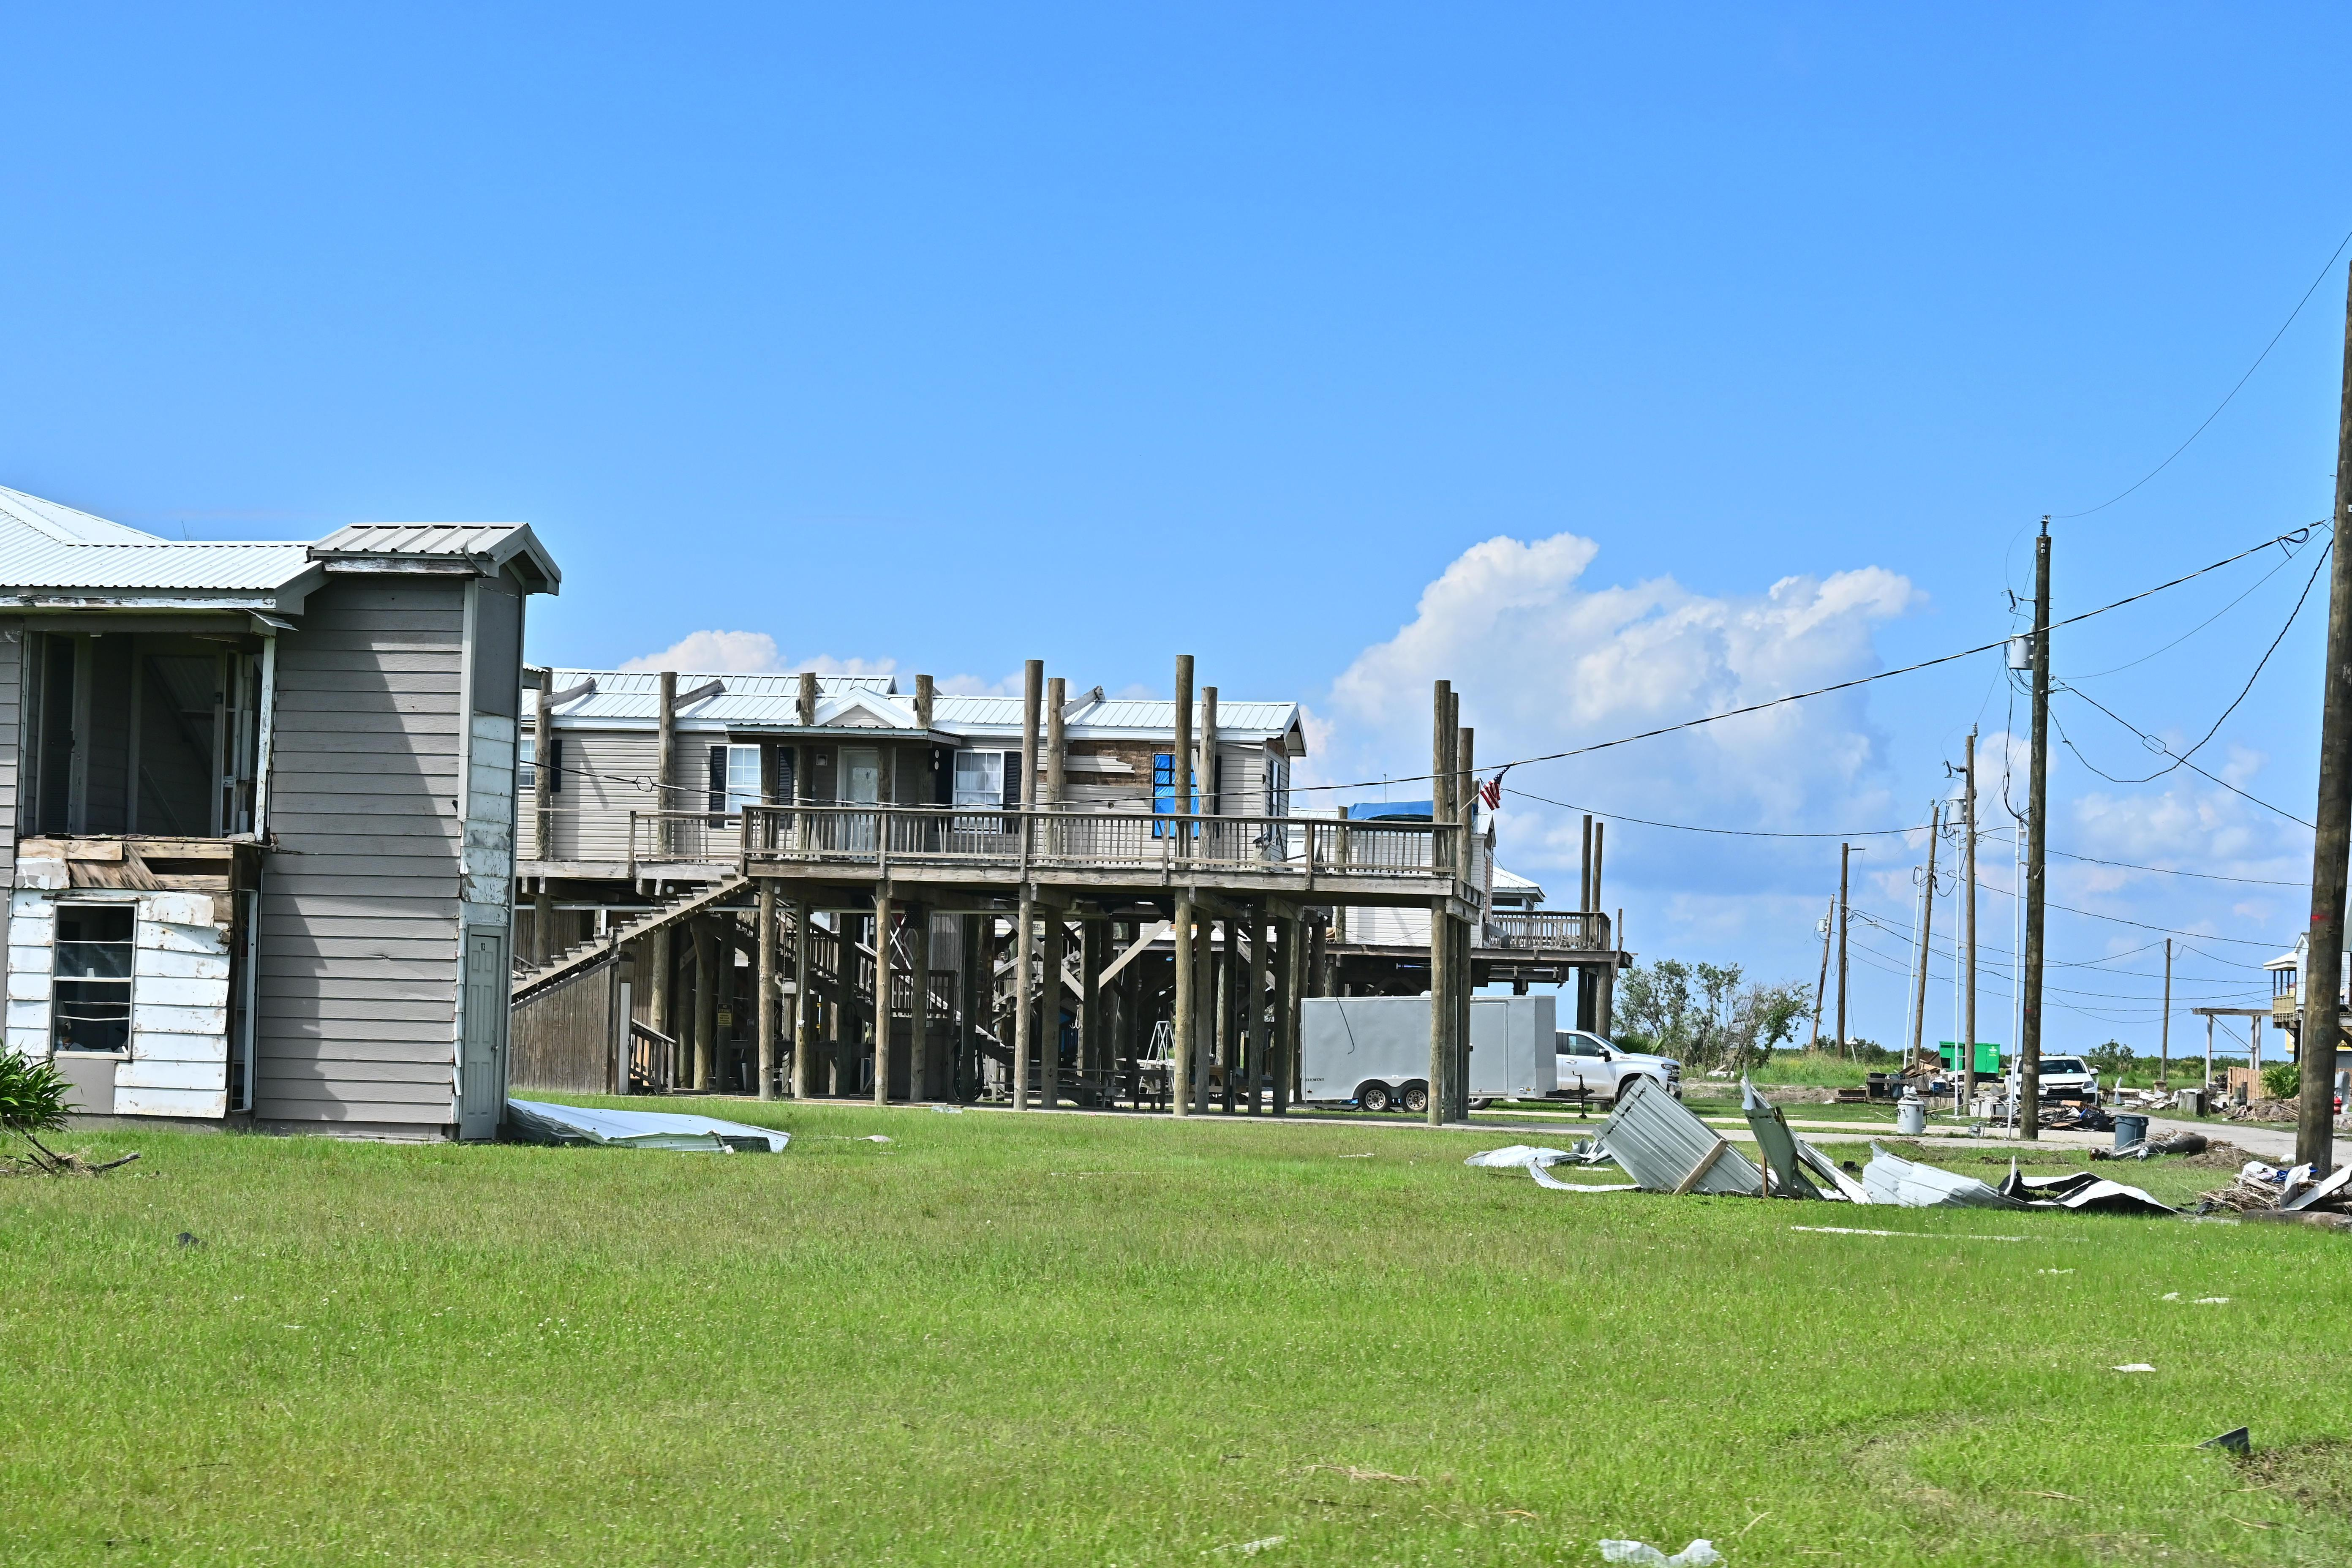minor: (581, 633, 1570, 1101)
